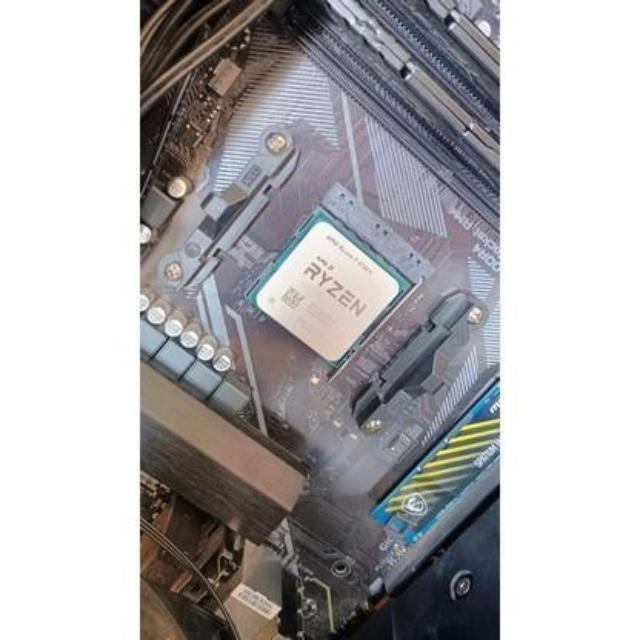CPU: (250, 216, 398, 364)
